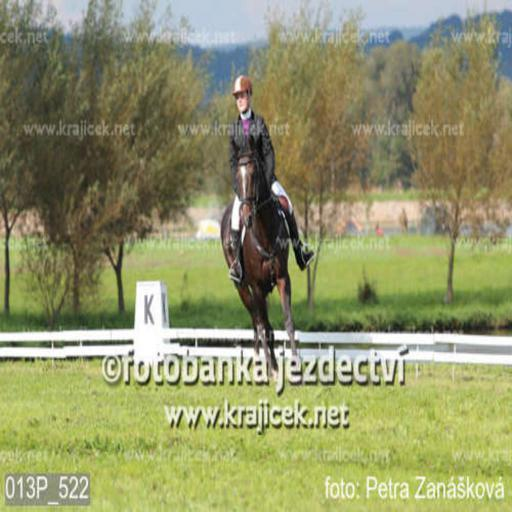horse: (217, 132, 300, 374)
